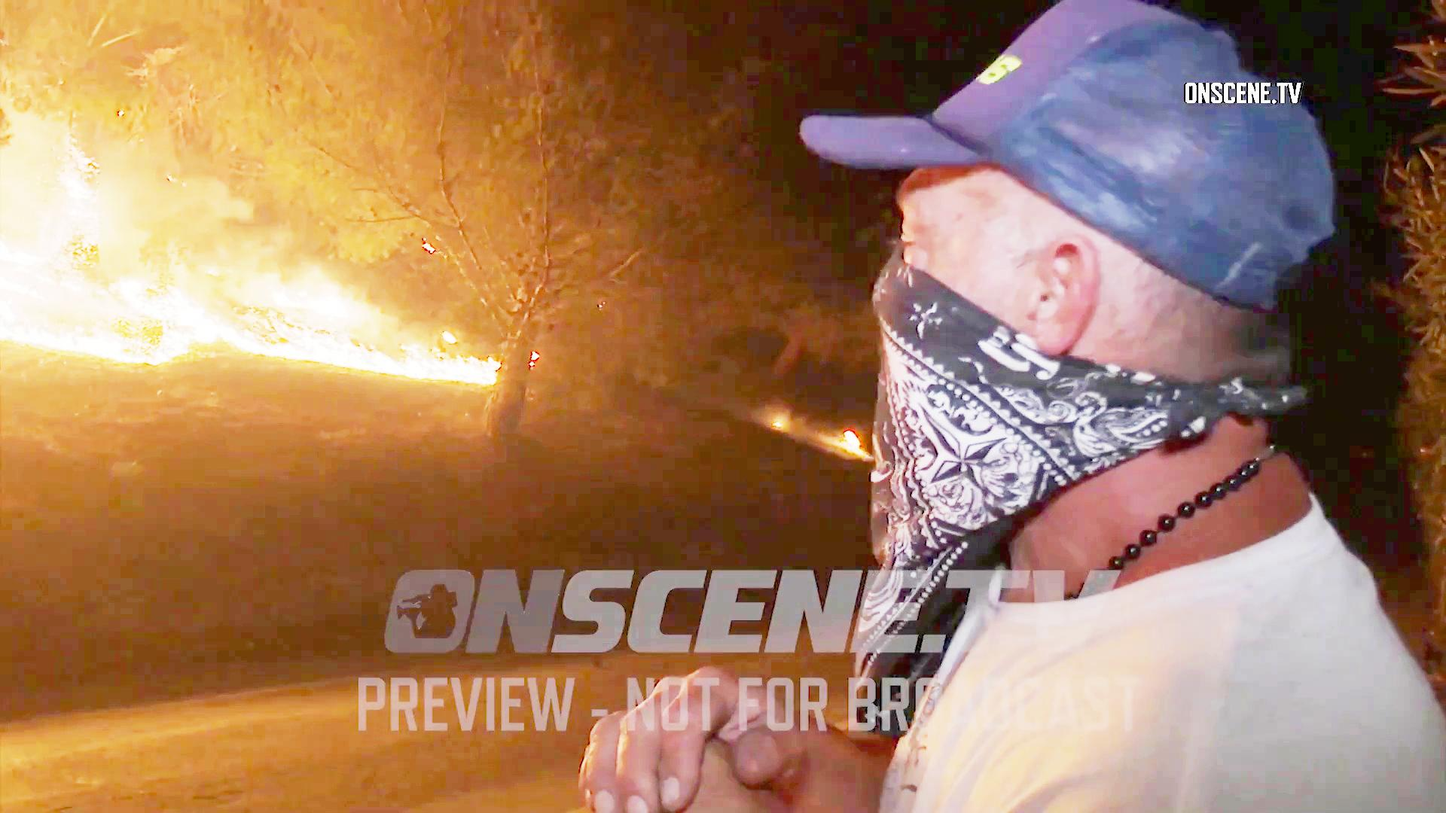fire: (134, 273, 477, 386)
